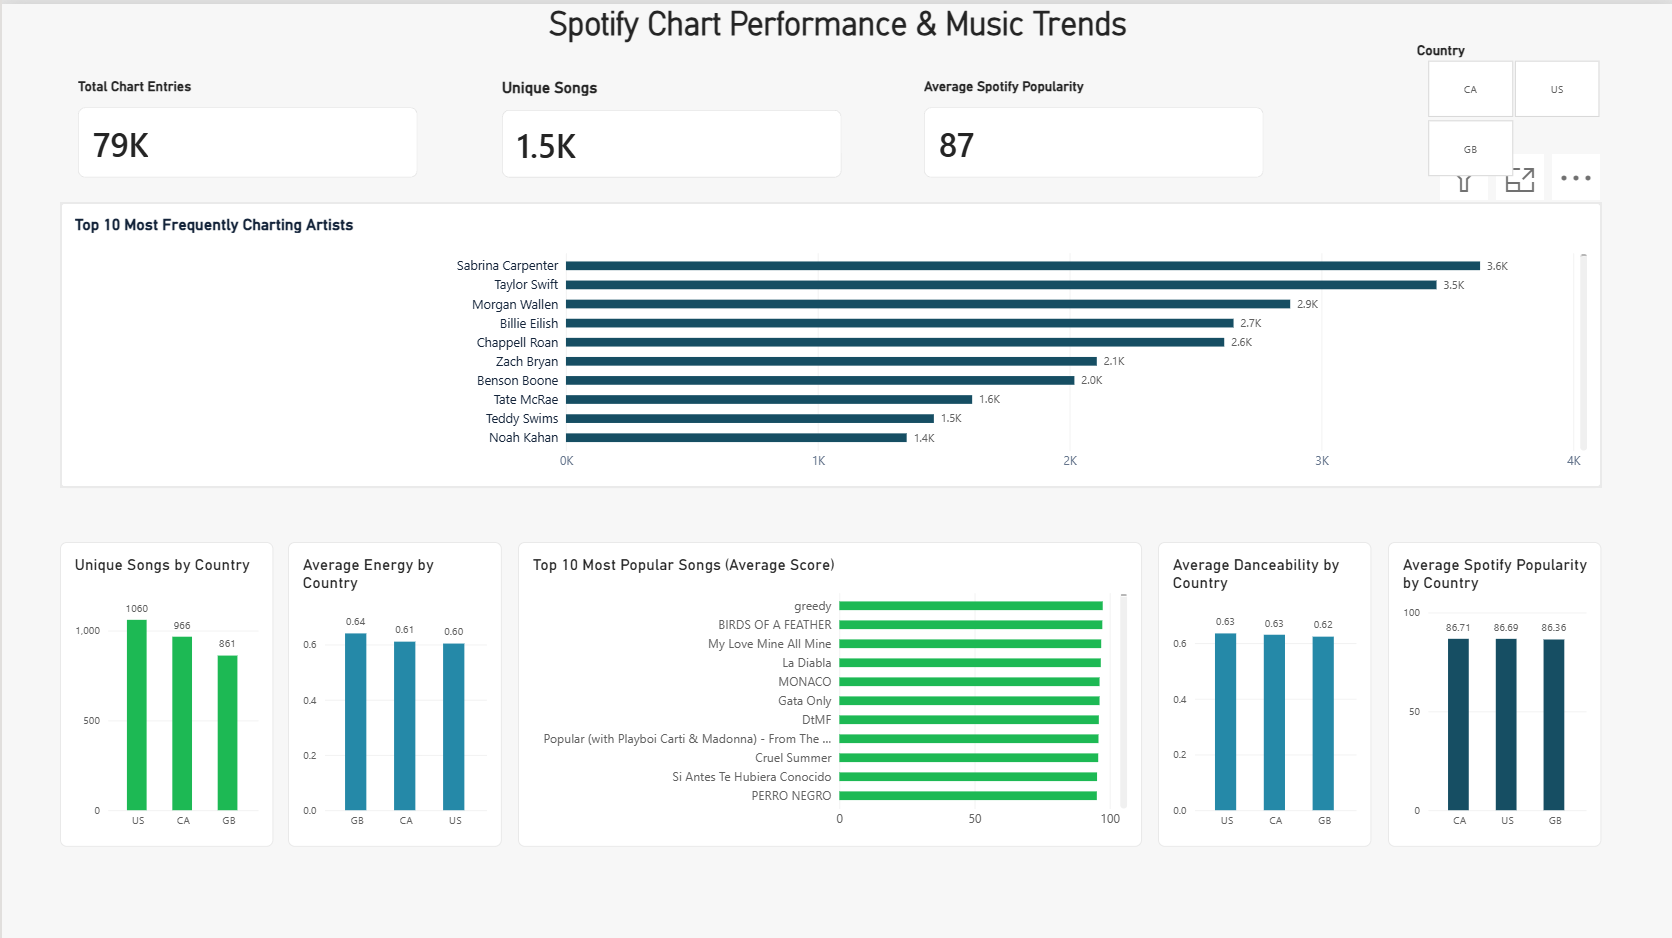

The dashboard page shown, as its layout file describes it:
{"tool":"powerbi","page":{"name":"Page 1","canvas":[1920,1080],"ordinal":0},"visuals":[{"type":"cardVisual","title":"Total Chart Entries","fields":{"Data":["CountNonNull(spotify_three_markets.spotify_id)"]},"box":[87.3,85,390,115],"z":0},{"type":"cardVisual","title":"Unique Songs","fields":{"Data":["Count(spotify_three_markets.spotify_id)"]},"box":[573,85,390,115],"z":1000},{"type":"cardVisual","title":"Average Spotify Popularity","fields":{"Data":["Avg(spotify_three_markets.popularity)"]},"box":[1058.8,85,390,115],"z":2000},{"type":"clusteredBarChart","title":"Top 10 Most Frequently Charting Artists","fields":{"Category":["spotify_three_markets.artists"],"Y":["CountNonNull(spotify_three_markets.spotify_id)"]},"box":[66.6,227.4,1770.7,328.4],"z":3000},{"type":"clusteredBarChart","title":"Top 10 Most Popular Songs (Average Score)","fields":{"Category":["spotify_three_markets.name"],"Y":["Avg(spotify_three_markets.popularity)"]},"box":[592.5,616.7,716.6,350],"z":4000},{"type":"clusteredColumnChart","title":"Average Spotify Popularity by Country","fields":{"Category":["spotify_three_markets.country"],"Y":["Avg(spotify_three_markets.popularity)"]},"box":[1590.4,616.7,245,350],"z":5000},{"type":"clusteredColumnChart","title":"Unique Songs by Country","fields":{"Category":["spotify_three_markets.country"],"Y":["Count(spotify_three_markets.spotify_id)"]},"box":[65.5,616.7,245,350],"z":6000},{"type":"clusteredColumnChart","title":"Average Energy by Country","fields":{"Category":["spotify_three_markets.country"],"Y":["Avg(spotify_three_markets.energy)"]},"box":[328.6,616.7,245.7,350],"z":7000},{"type":"clusteredColumnChart","title":"Average Danceability by Country","fields":{"Category":["spotify_three_markets.country"],"Y":["Avg(spotify_three_markets.danceability)"]},"box":[1327.3,616.7,245,350],"z":8000},{"type":"slicer","fields":{"Values":["spotify_three_markets.country"]},"box":[1616.8,43.6,236.6,156.2],"z":9000},{"type":"textbox","box":[264.1,0,1391.8,85],"z":11000}]}

Visuals, with their boxes in screenshot pixels (x1, y1, x2, y2), scaled from the page's 1920x1080 canvas onto the 1672x938 screenshot:
"Total Chart Entries" cardVisual: (76, 74, 416, 174)
"Unique Songs" cardVisual: (499, 74, 839, 174)
"Average Spotify Popularity" cardVisual: (922, 74, 1262, 174)
"Top 10 Most Frequently Charting Artists" clusteredBarChart: (58, 198, 1600, 483)
"Top 10 Most Popular Songs (Average Score)" clusteredBarChart: (516, 536, 1140, 840)
"Average Spotify Popularity by Country" clusteredColumnChart: (1385, 536, 1598, 840)
"Unique Songs by Country" clusteredColumnChart: (57, 536, 270, 840)
"Average Energy by Country" clusteredColumnChart: (286, 536, 500, 840)
"Average Danceability by Country" clusteredColumnChart: (1156, 536, 1369, 840)
slicer - spotify_three_markets.country: (1408, 38, 1614, 174)
textbox: (230, 0, 1442, 74)
